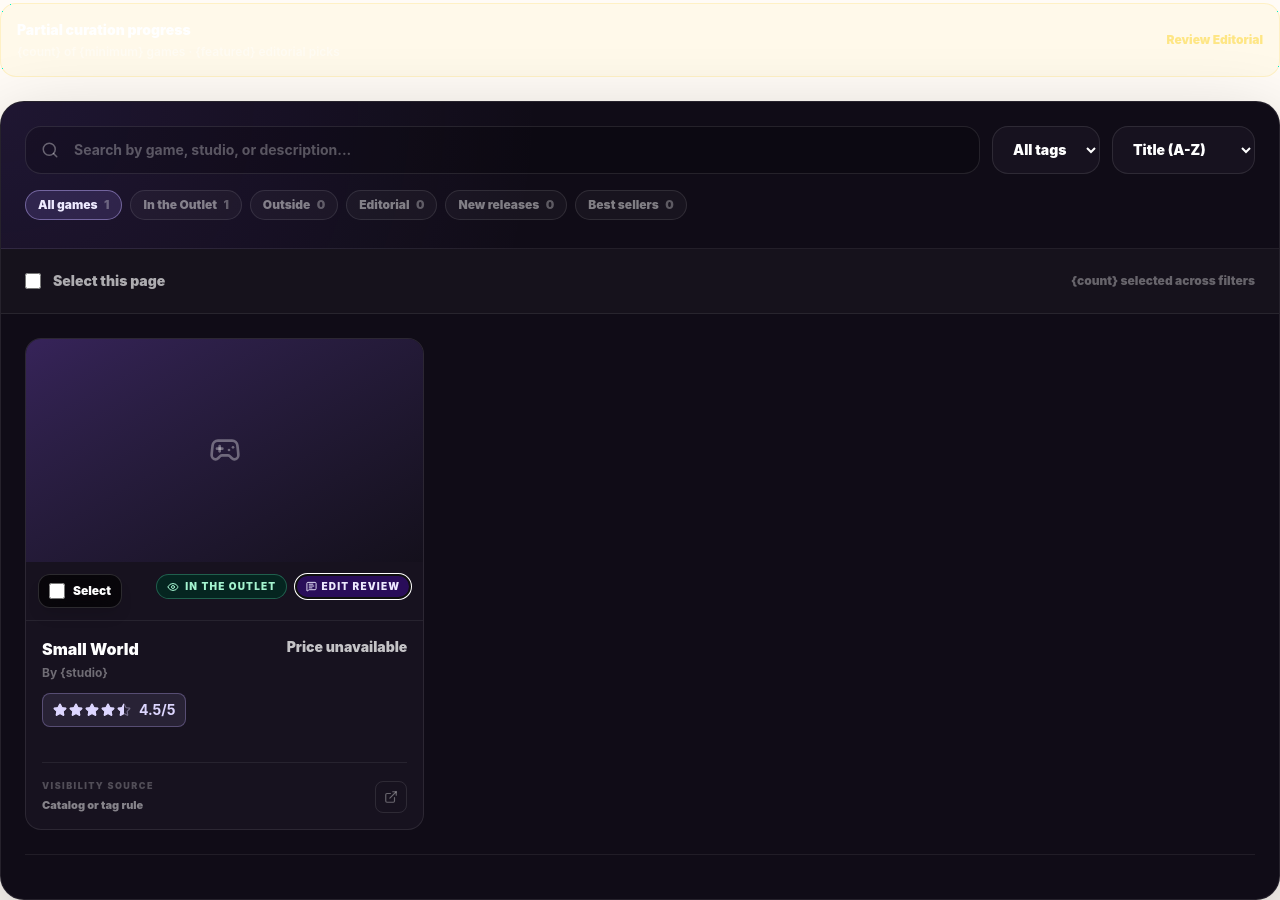
Test: guards repeated removal and retains focus through a failure before Escape closes
(page scrolled)
Click the button "Edit review" at (353, 587), box [295,574,411,599]
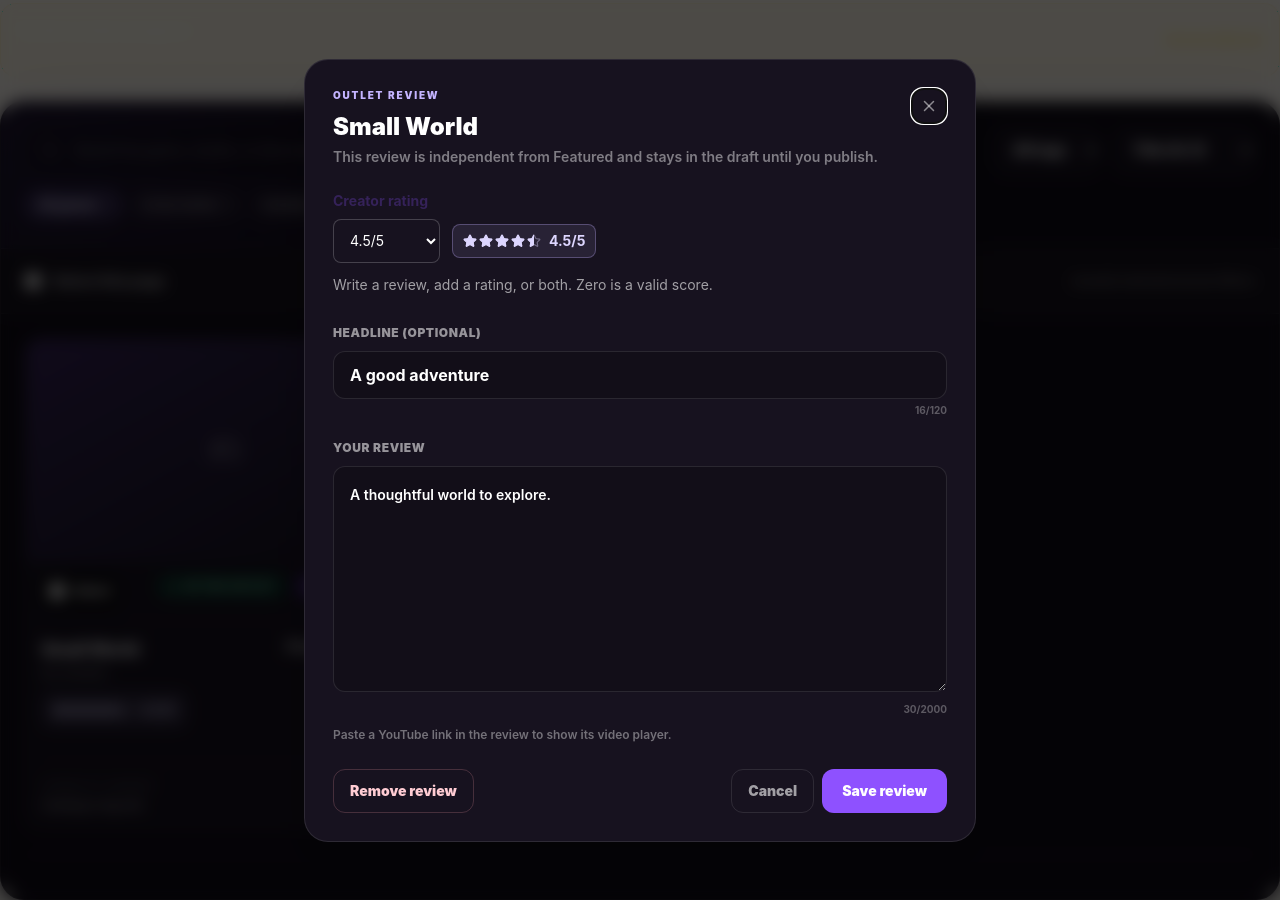
Click the button "Remove review" at (403, 790), box [333,768,474,812]
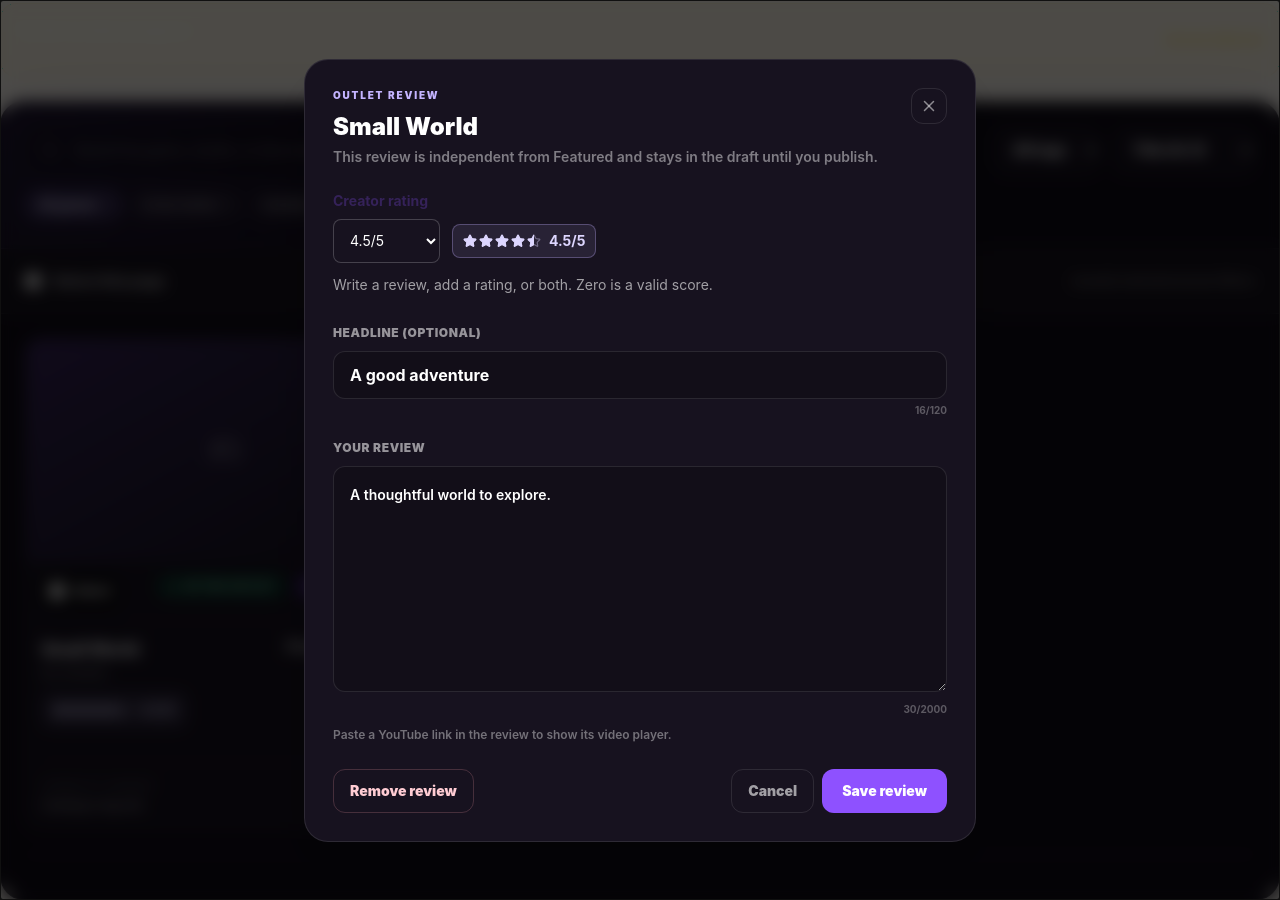
Click the button "Remove review" at (403, 790), box [333,768,474,812]
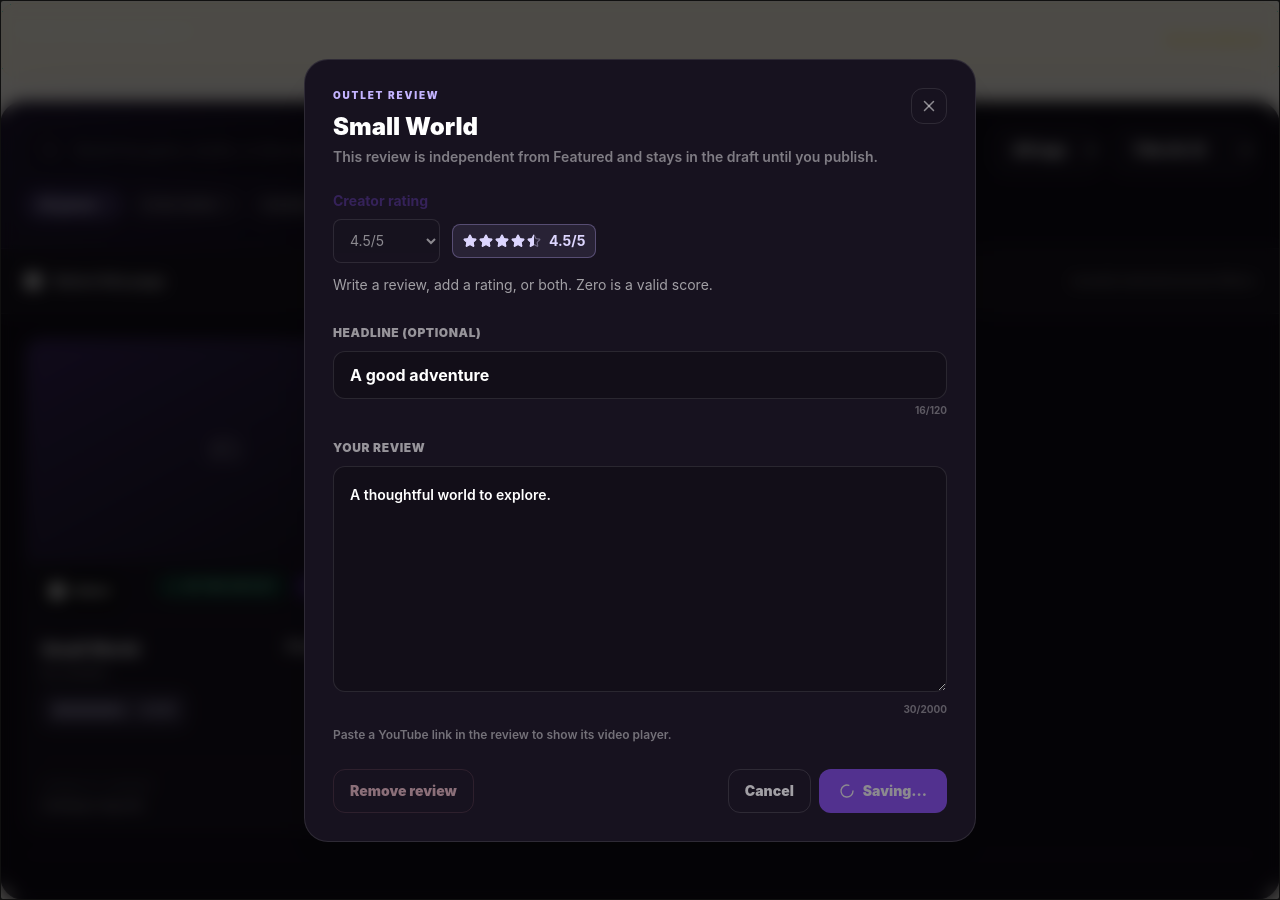
Press Escape in the dialog
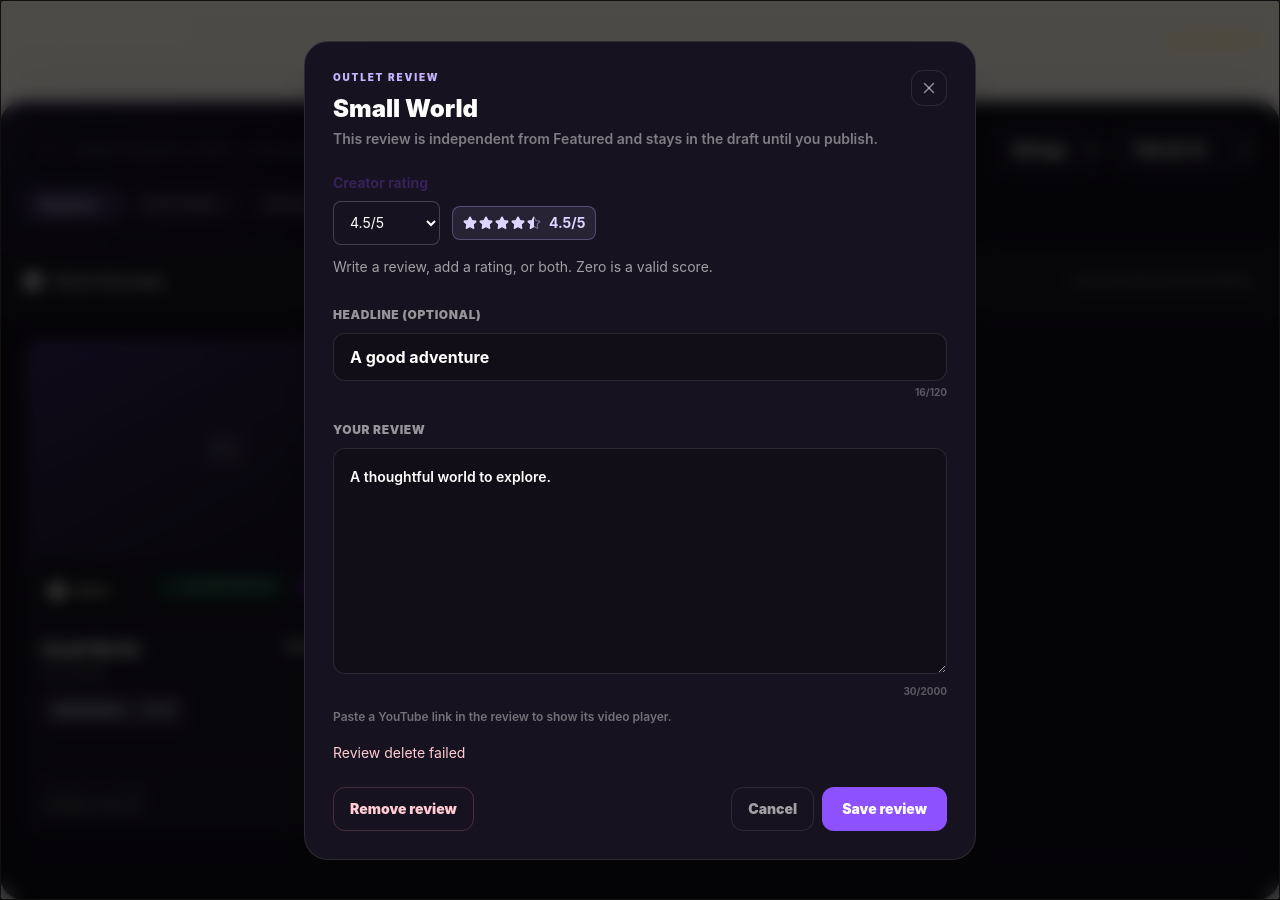
Expected: the dialog is shown
Expected: the button "Remove review" is enabled, [333,786,474,830]
Press Escape in the dialog
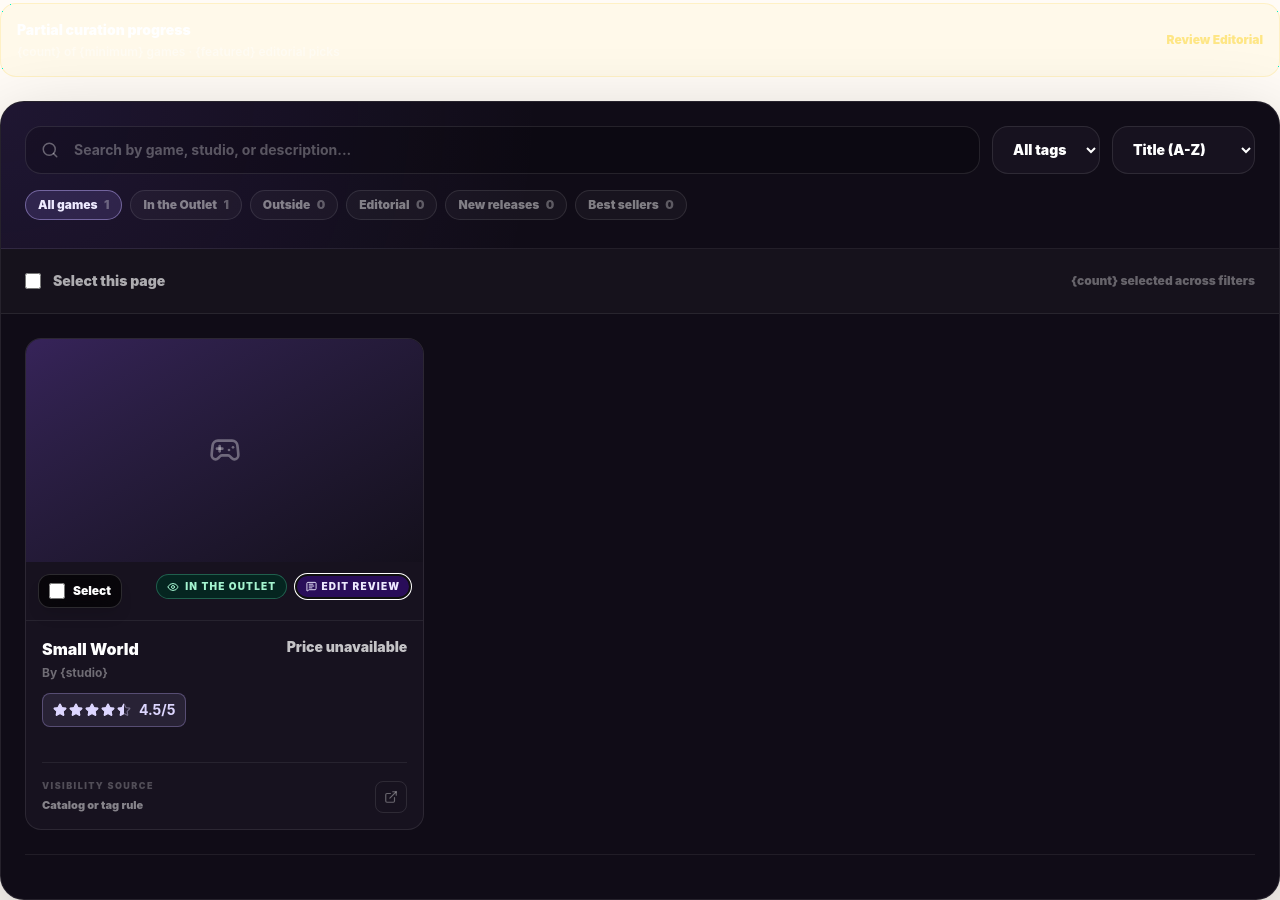
Expected: the dialog is gone
